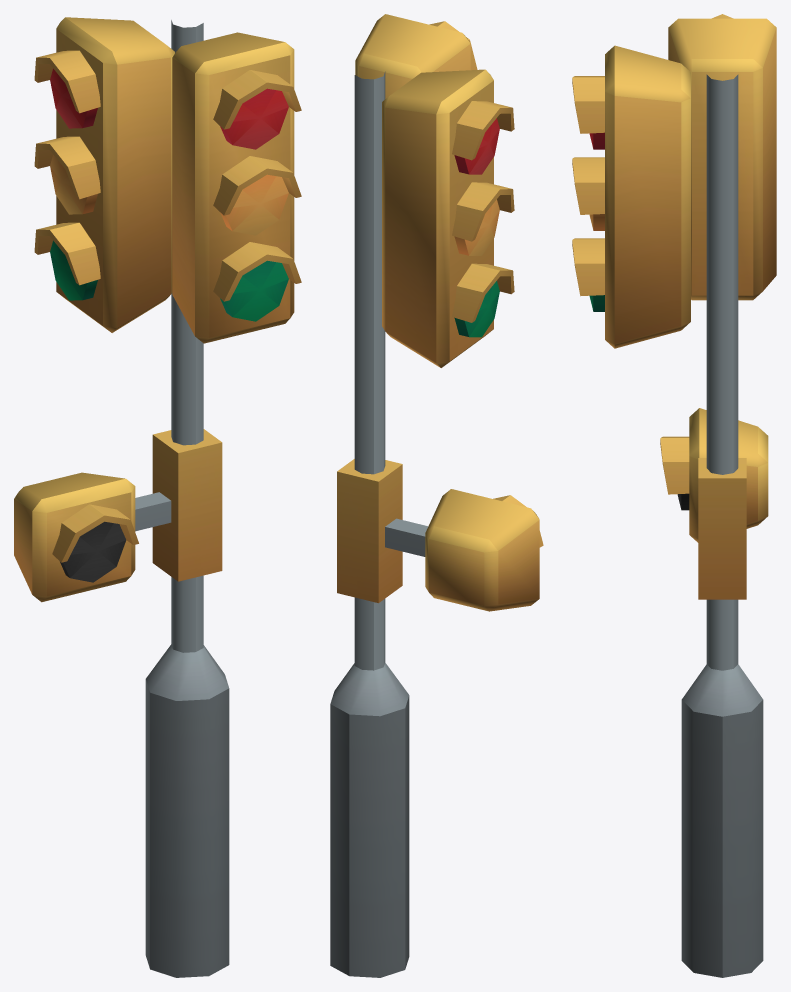
Rendered from traffic-light.glb.
3 views of the same model, side by side, from view 1: azimuth 30°, elevation 25°; view 2: azimuth 150°, elevation 25°; view 3: azimuth 270°, elevation 25° (orthographic). The views are drawn at different scales.
Visible parts, largest first — view 1: trafficlight_A; view 2: trafficlight_A; view 3: trafficlight_A.
Boxes of the visible parts, left/top/right/bottom form: trafficlight_A: left=14, top=17, right=301, bottom=977; trafficlight_A: left=330, top=14, right=543, bottom=977; trafficlight_A: left=572, top=14, right=776, bottom=977.
Size of the model in its own units: 0.837 by 3.5 by 0.7225.
Materials: 1 (1 with a texture image).
